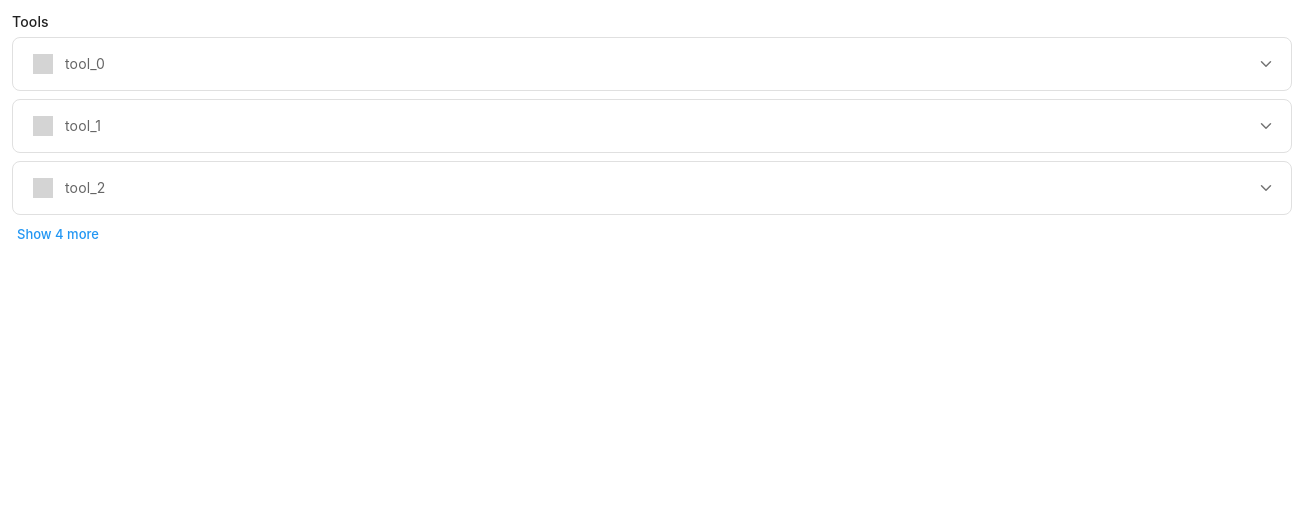
Test: ToolAccordionList — variant="available" › paginates with "Show N more" / "Show less" past initialVisibleCount
Expected: the text "tool_0" is shown, 65,53 -> 105,74
Expected: the text "tool_2" is shown, 65,177 -> 106,198
Click the button "Show 4 more" at (58, 234), box 12,219 -> 104,249
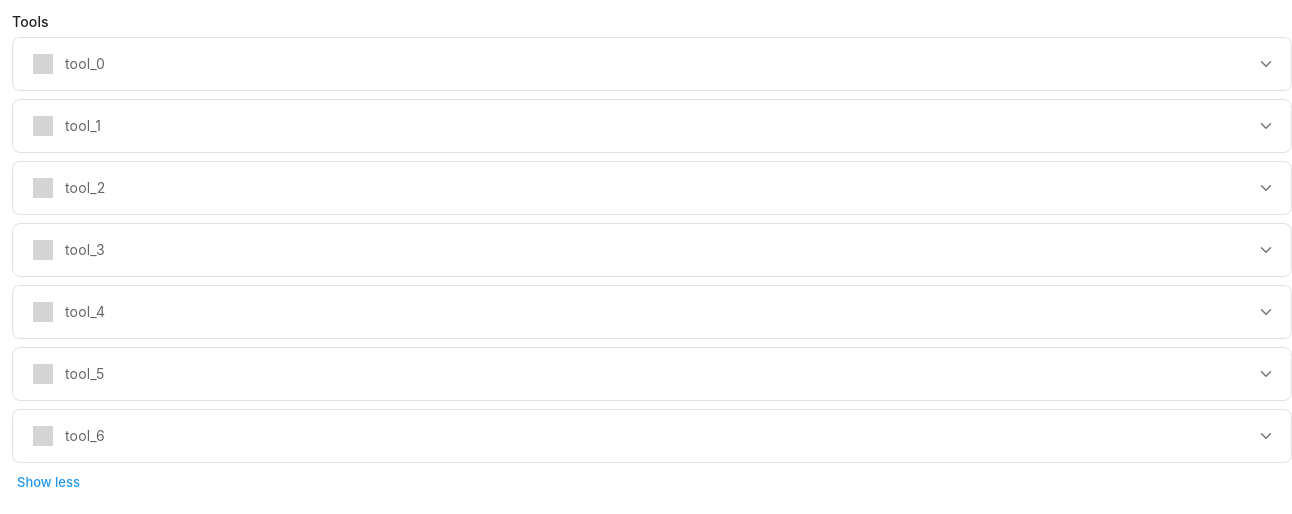
Now the text "tool_3" is shown, box 65,239 -> 105,260
Now the text "tool_6" is shown, box 65,425 -> 105,446
Now the button "Show less" is shown
Click the button "Show less" at (48, 482), box 12,467 -> 85,497
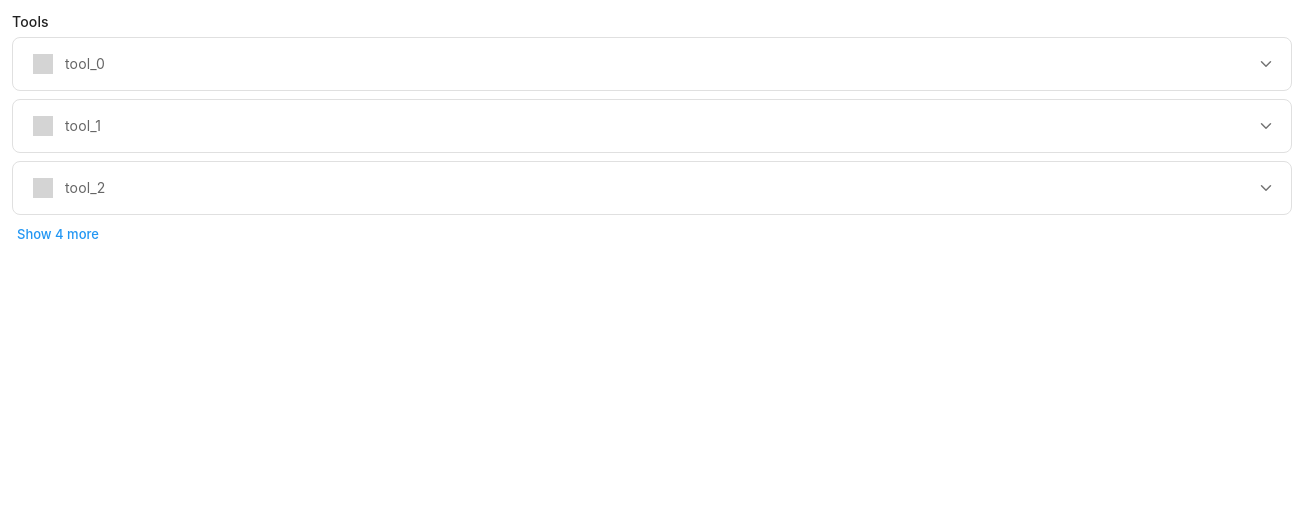
Now the button "tool_3" is gone
